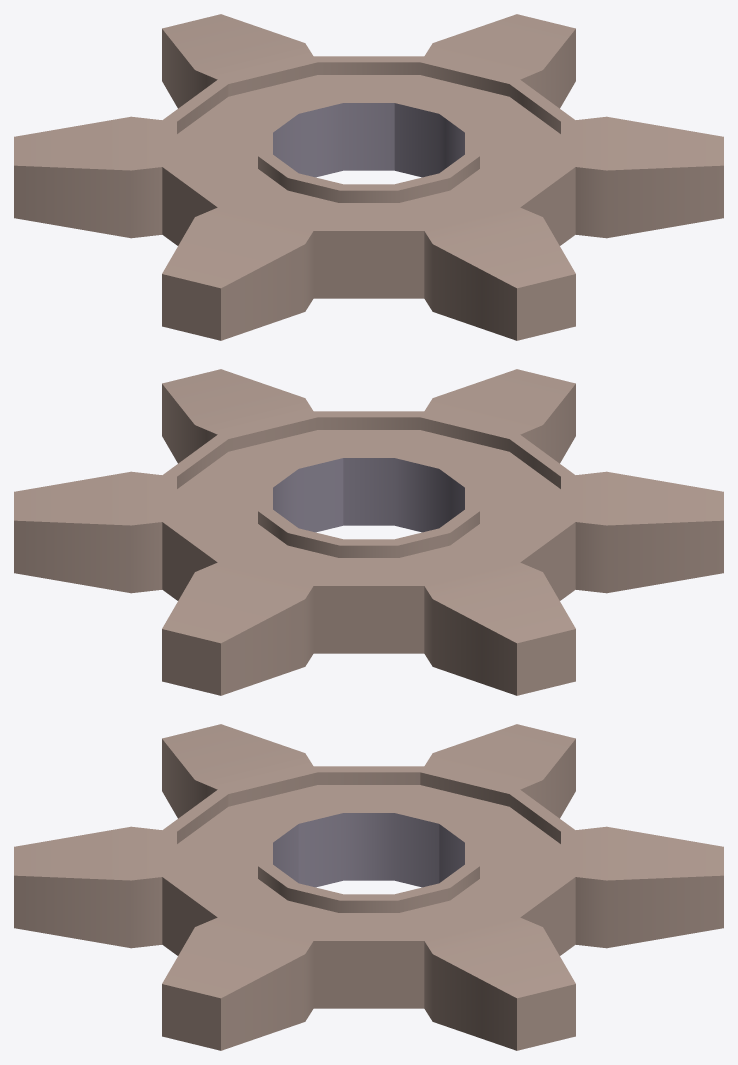
Rendered from SM_Gear.fbx.
3 views of the same model, one above another, from view 1: azimuth 30°, elevation 25°; view 2: azimuth 150°, elevation 25°; view 3: azimuth 270°, elevation 25° (orthographic).
Visible parts, largest first — view 1: Gear; view 2: Gear; view 3: Gear.
Part boxes in pixels (x1,y1,x2,y2): Gear: [14, 14, 723, 340]; Gear: [14, 369, 723, 695]; Gear: [14, 724, 723, 1050].
Bounding box in the file's own units: 59.28 × 6.83 × 64.85.
